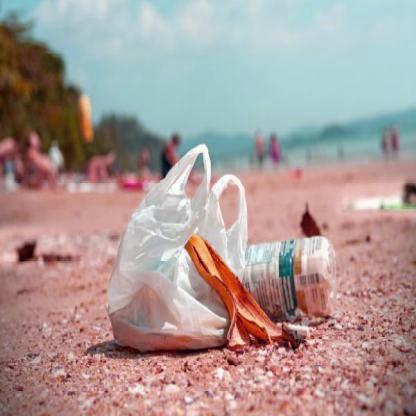Plastic: (102, 149, 255, 349), (225, 233, 335, 328)
